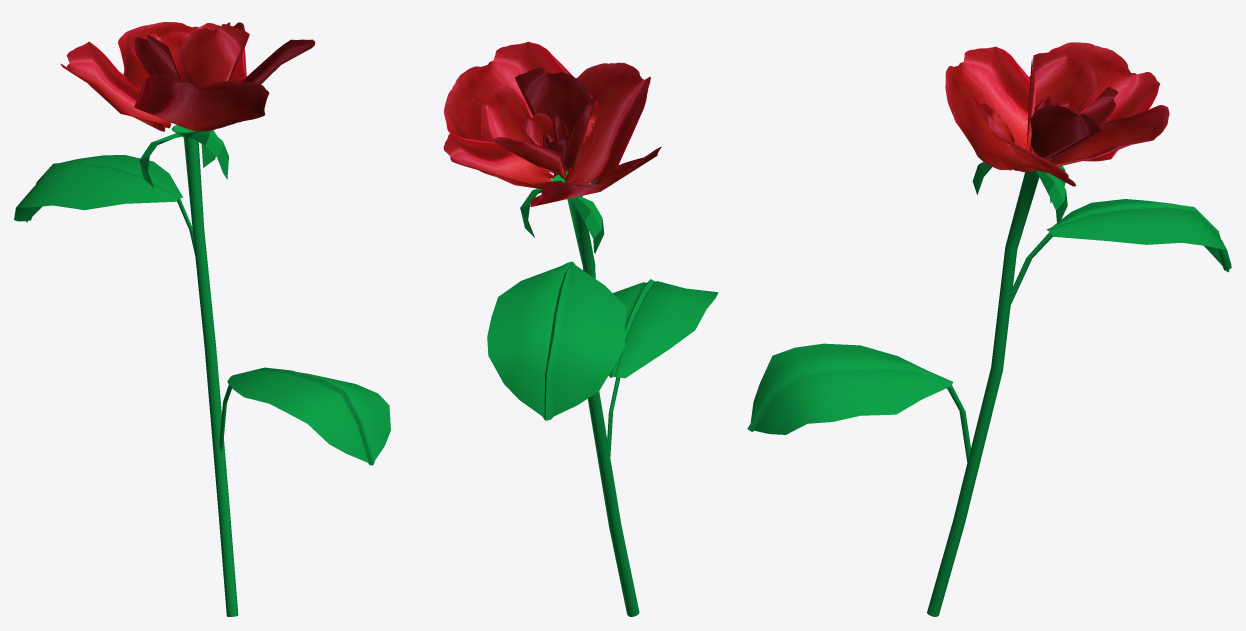
The model's file is flowerModel.glb.
The picture shows the model from 3 angles, left to right: view 1: azimuth 30°, elevation 25°; view 2: azimuth 150°, elevation 25°; view 3: azimuth 270°, elevation 25°; orthographic projection. The views are drawn at different scales.
Visible parts, largest first — view 1: Hoja004, Petalos003; view 2: Hoja004, Petalos003; view 3: Hoja004, Petalos003.
Boxes of the visible parts, x1,y1,x2,y2 form: Hoja004: (14, 125, 390, 616); Petalos003: (60, 22, 315, 131); Hoja004: (487, 171, 718, 616); Petalos003: (443, 41, 661, 206); Hoja004: (747, 158, 1231, 616); Petalos003: (945, 42, 1169, 186).
Size of the model in its own units: 0.9981 by 2.18 by 1.66.
2 materials, 1 textured.
